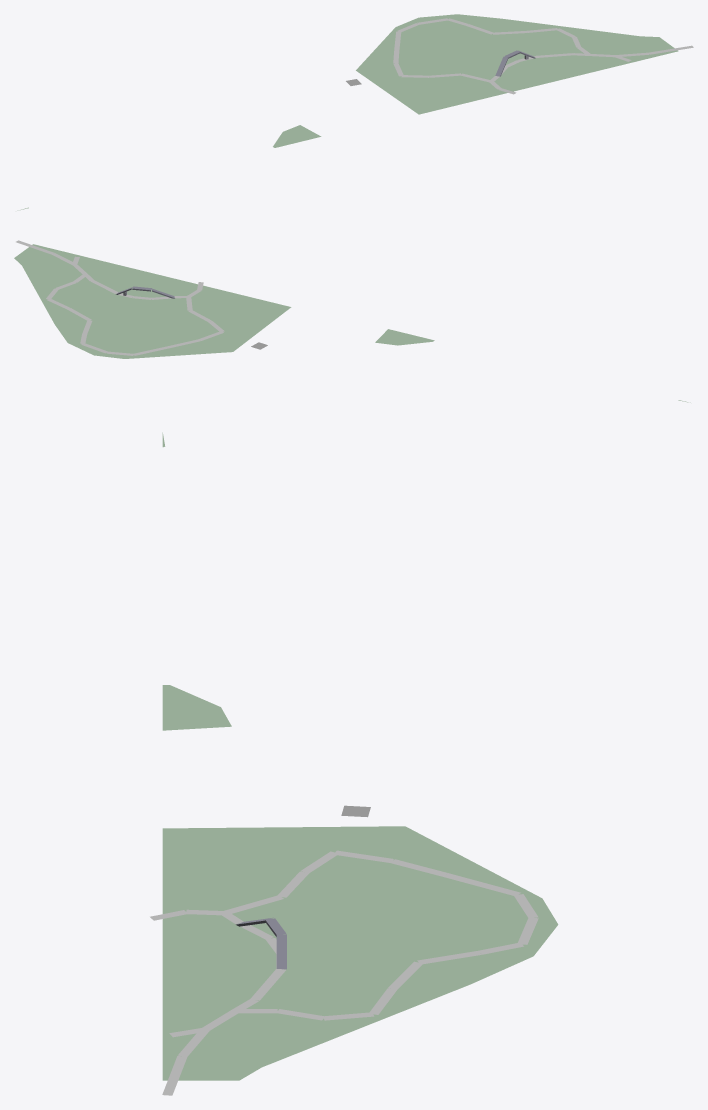
3 views of the same model, one above another, from view 1: azimuth 30°, elevation 25°; view 2: azimuth 150°, elevation 25°; view 3: azimuth 270°, elevation 25° (orthographic). The views are drawn at different scales.
Bounding box in the file's own units: 452 × 7.05 × 118.
